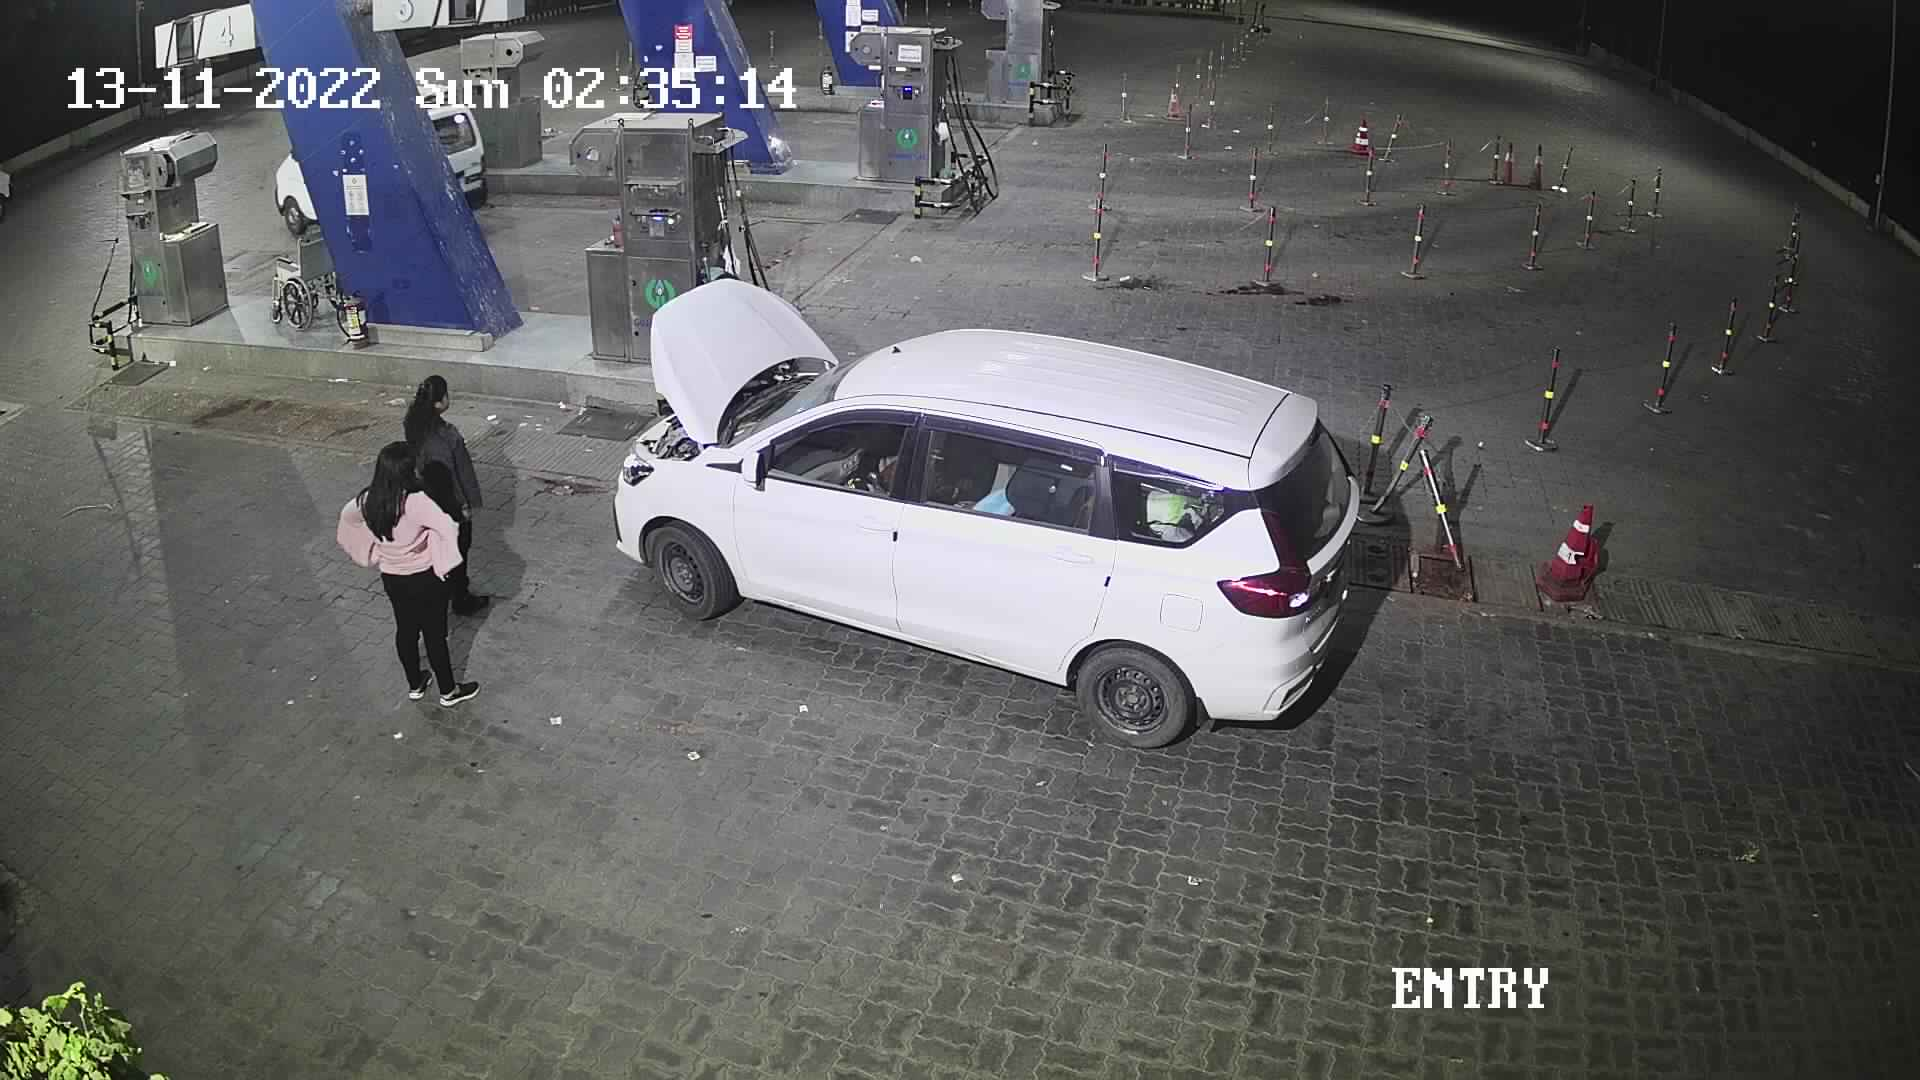Car: (599, 266, 1373, 760), (415, 84, 498, 222)
